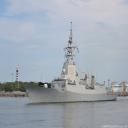Fragata: (23, 23, 120, 106)
